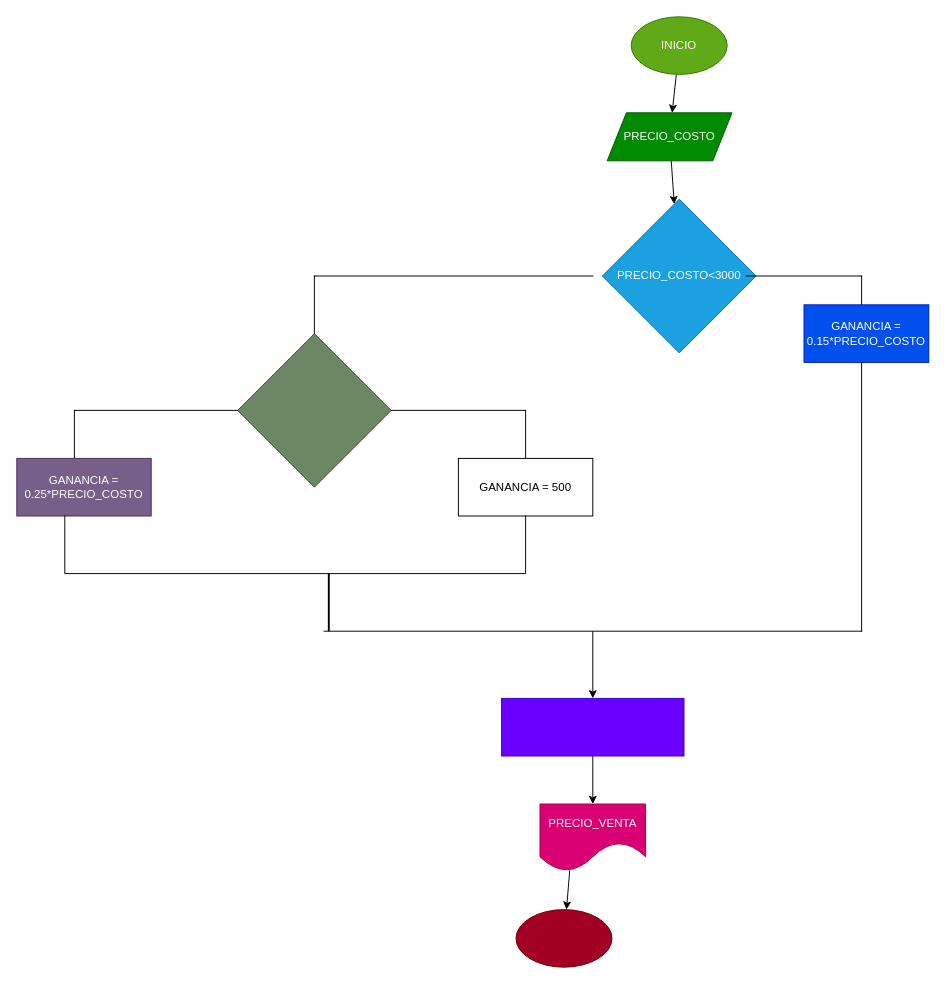
Some shapes in this 946 by 984 pixel diagram are drawn without their labels. The centre of each missing label's shape, as x and y in pixels:
"FIN" goes at point 563,938.
"PRECIO_COSTO<6000" goes at point 314,410.
"PRECIO_VENTA = PRECIO_COSTA+GANANCIA" goes at point 592,726.
